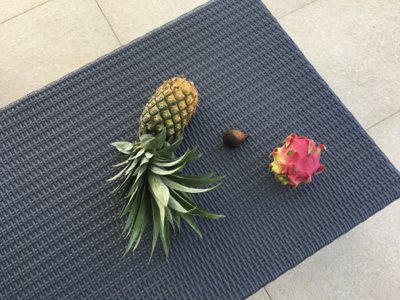dragon fruit: (270, 134, 327, 189)
pineapple: (108, 79, 225, 260)
snake fruit: (223, 128, 251, 149)
